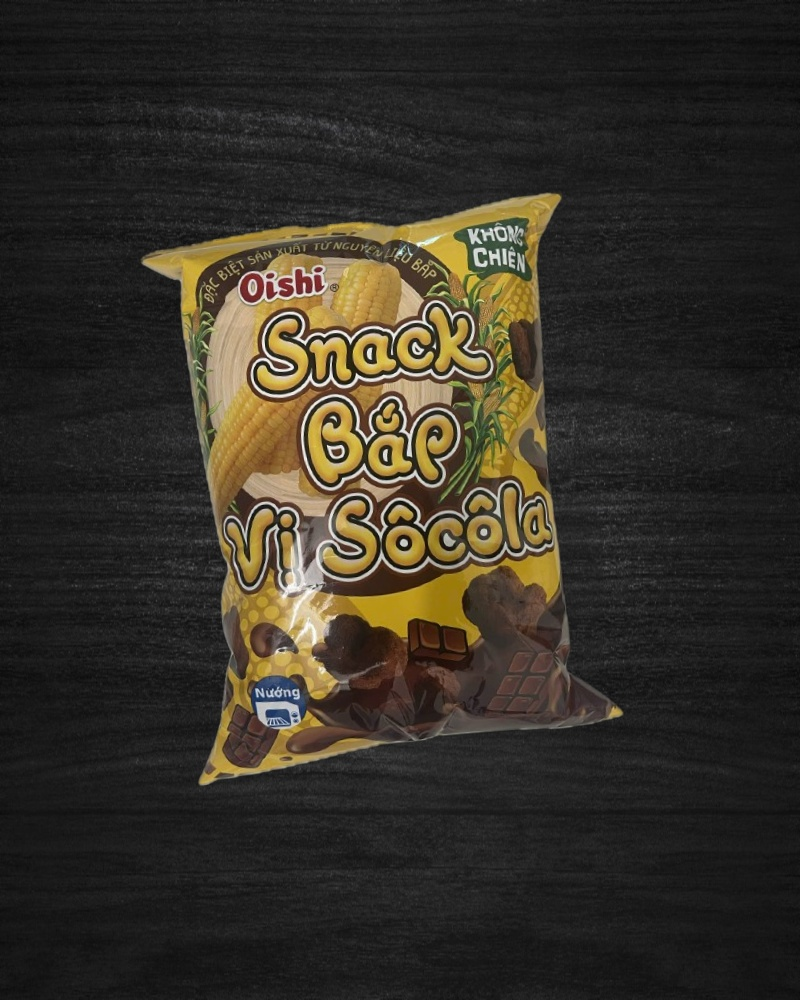Snack socola: (141, 194, 627, 775)
